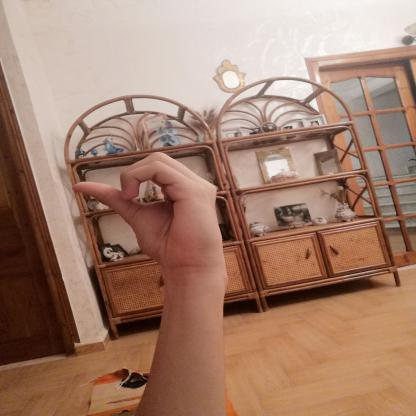WAW: (58, 142, 238, 276)
